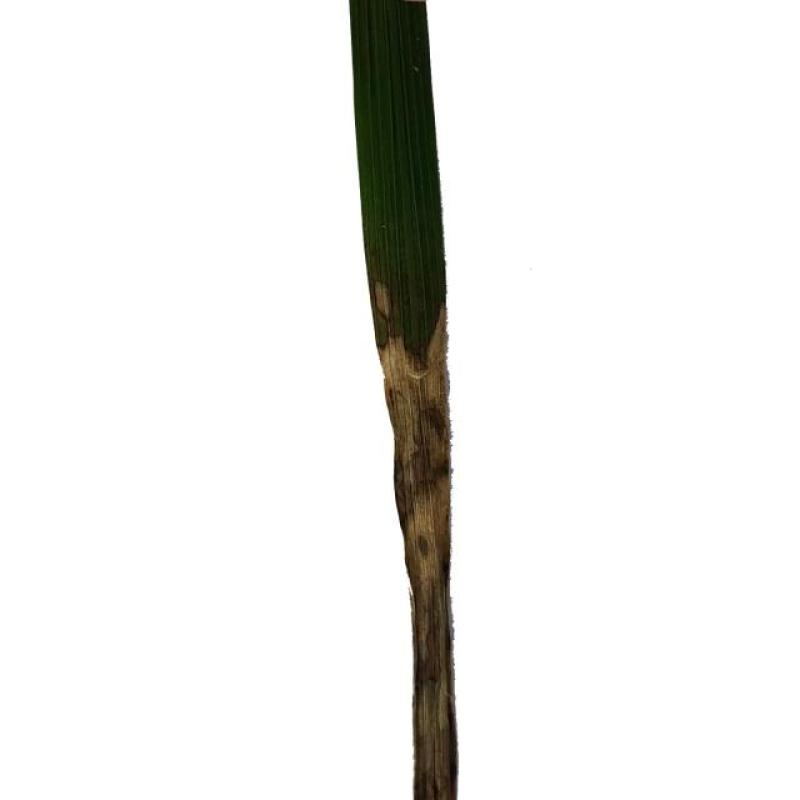Bacterial_Leaf_Blight: (386, 288, 459, 496), (397, 450, 455, 672), (405, 647, 475, 792)
